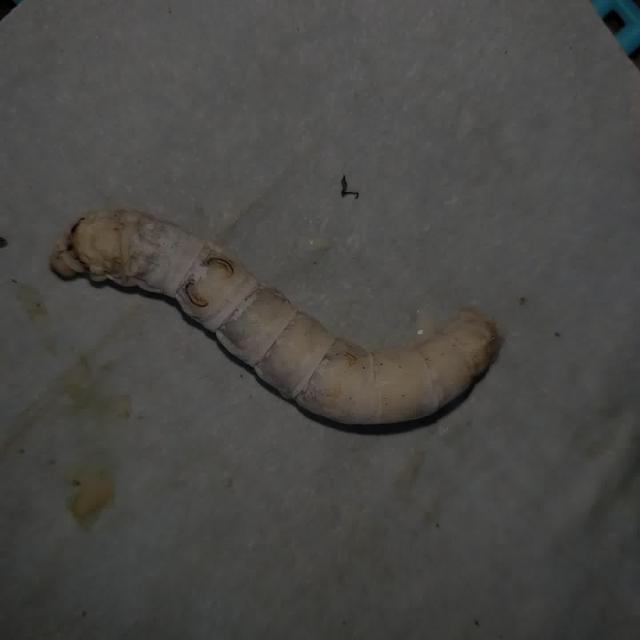Grasserie: (33, 172, 522, 457)
